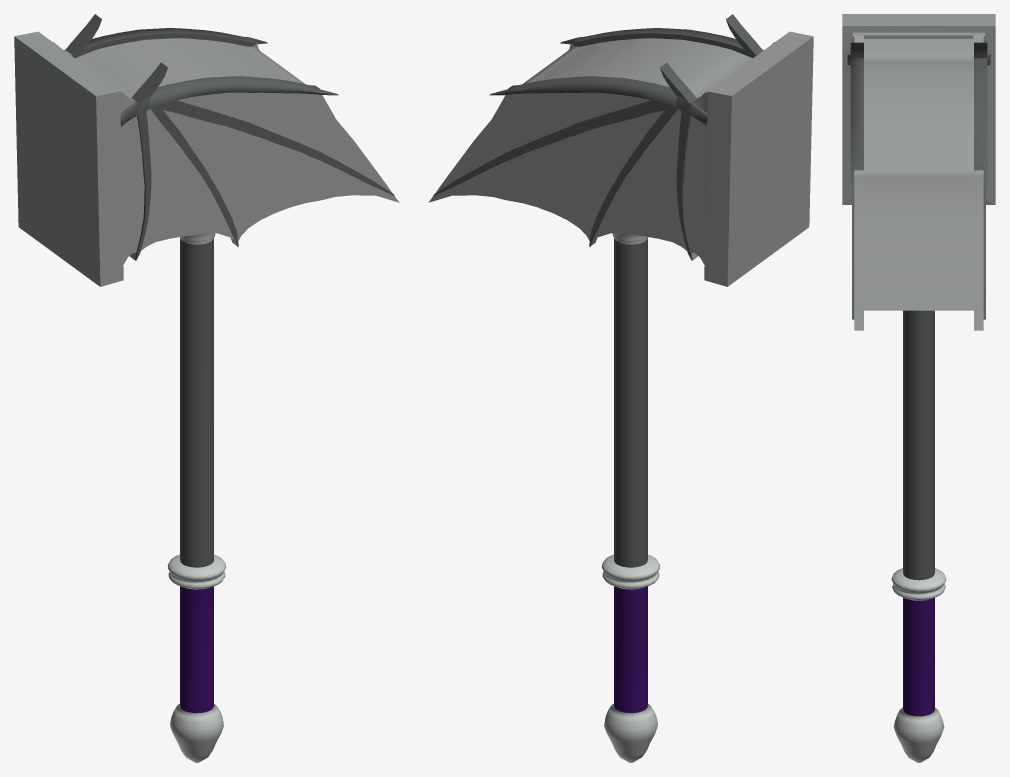
Rendered from hammer w texture.fbx.
3 renders of one model, left to right at view 1: azimuth 30°, elevation 25°; view 2: azimuth 150°, elevation 25°; view 3: azimuth 270°, elevation 25°, orthographic. The views are drawn at different scales.
Visible parts, largest first — view 1: hammer; view 2: hammer; view 3: hammer.
Boxes of the visible parts, x1,y1,x2,y2 form: hammer: [14, 14, 399, 762]; hammer: [428, 14, 813, 762]; hammer: [842, 14, 995, 762].
Bounding box in the file's own units: 3.18 × 7.23 × 1.46.
Materials: 1 (1 with a texture image).
